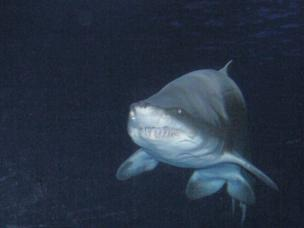Shark -Selachimorpha-: (114, 59, 282, 228)
